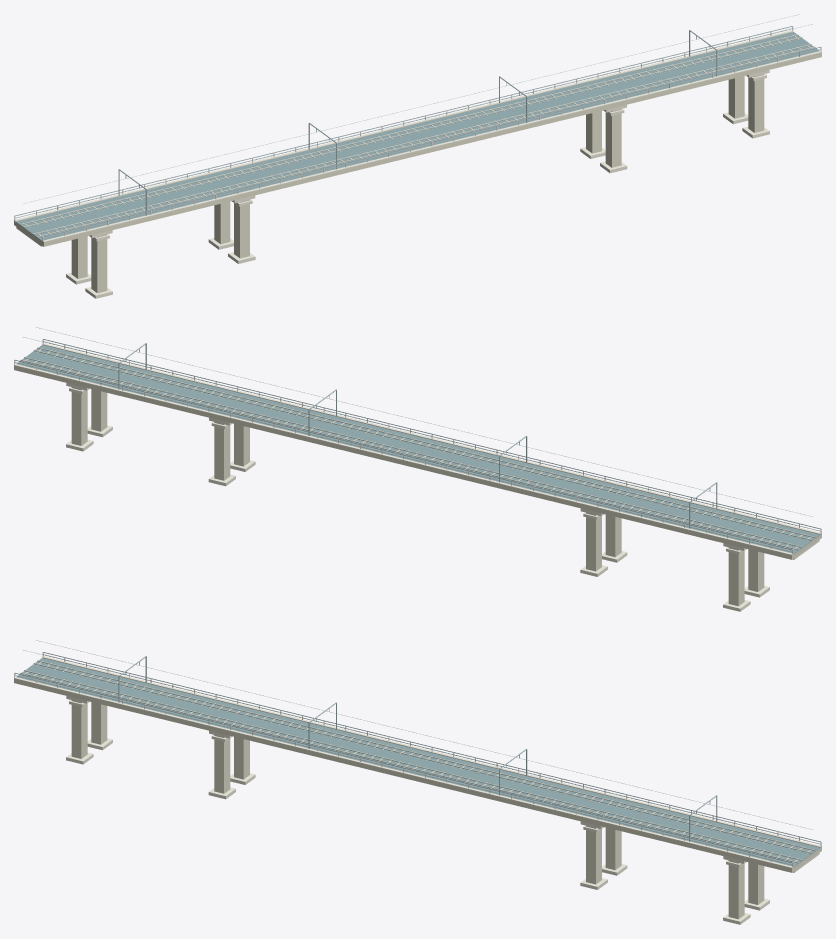
File: rail-viaduct.glb
3 views of the same model, one above another, from view 1: azimuth 30°, elevation 25°; view 2: azimuth 150°, elevation 25°; view 3: azimuth 330°, elevation 25° (orthographic).
Visible parts, largest first — view 1: Sora_Rail_Viaduct_Surface; view 2: Sora_Rail_Viaduct_Surface; view 3: Sora_Rail_Viaduct_Surface.
Boxes of the visible parts, x1=… form: Sora_Rail_Viaduct_Surface: x1=14, y1=14, x2=821, y2=298; Sora_Rail_Viaduct_Surface: x1=14, y1=327, x2=821, y2=611; Sora_Rail_Viaduct_Surface: x1=14, y1=640, x2=821, y2=924.
Bounding box in the file's own units: 180 × 21.31 × 12.
